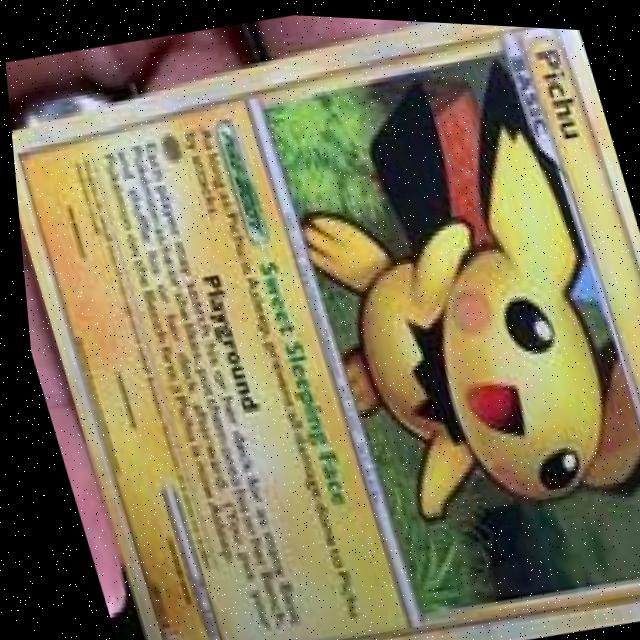pichu: (249, 77, 640, 576)
